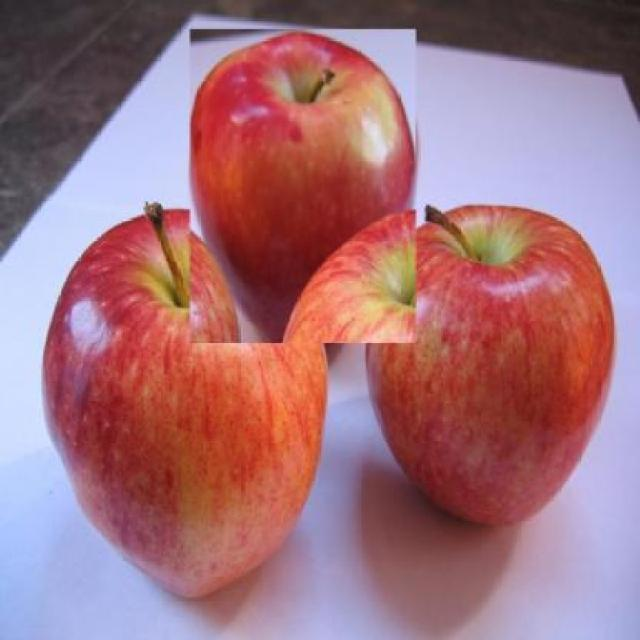Apple: (39, 196, 328, 602), (364, 202, 616, 530), (190, 29, 416, 343)
